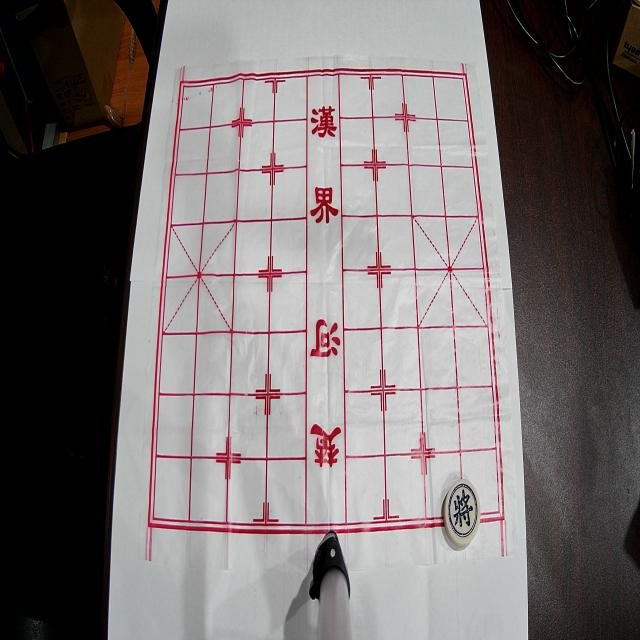black-general: (444, 479, 481, 546)
